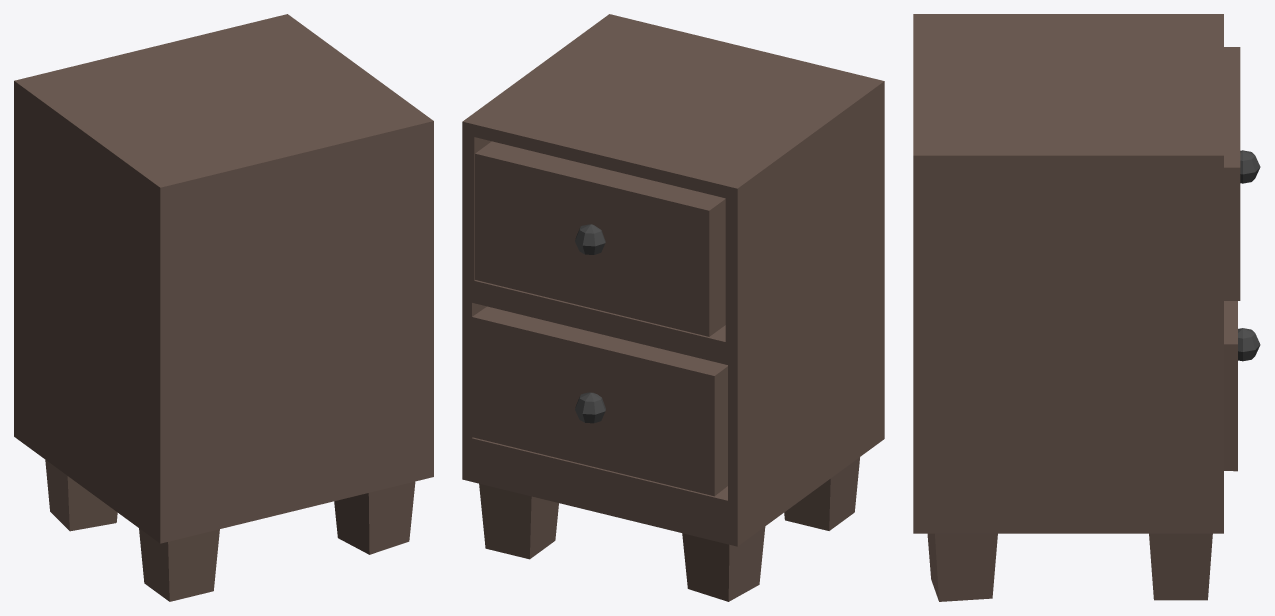
The model's file is CabinetSmall.fbx.
3 renders of one model, left to right at view 1: azimuth 30°, elevation 25°; view 2: azimuth 150°, elevation 25°; view 3: azimuth 270°, elevation 25°, orthographic. The views are drawn at different scales.
Visible parts, largest first — view 1: Cube.003; view 2: Cube.003; view 3: Cube.003.
Part boxes in pixels (x1,y1,x2,y2): Cube.003: [14, 14, 433, 601]; Cube.003: [462, 14, 884, 601]; Cube.003: [913, 14, 1260, 601].
Bounding box in the file's own units: 200 × 298 × 207.
